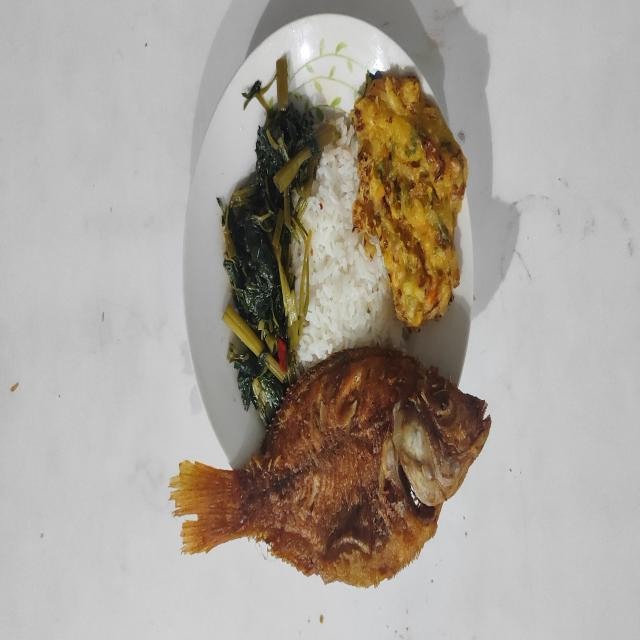ikan_mujair: (170, 346, 491, 586)
nasi_putih: (297, 116, 406, 370)
tumis_kangkung: (222, 56, 338, 423)
